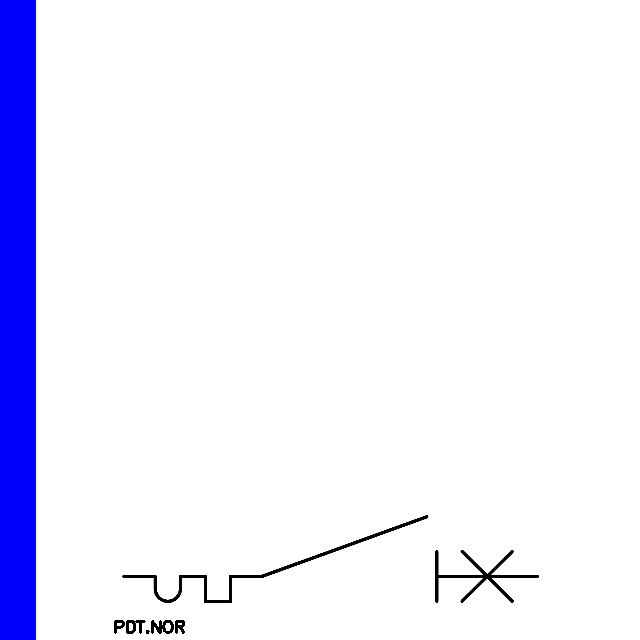interruptor_termomagnetico: (113, 506, 548, 612)
